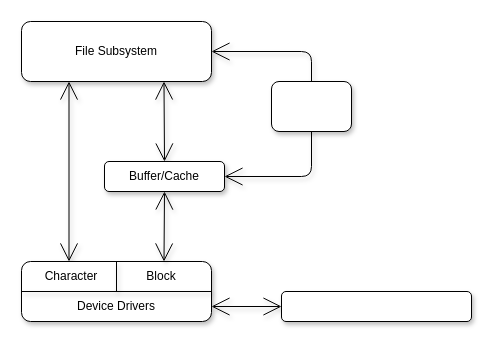
Image size: 495x350. Some labels were removed from this diagram. Here are the shapes that lost their labels. From the top down, the centre of each, then its label:
At point 312,107: "OS Provides".
At point 377,307: "More hardware caches, disks etc".
